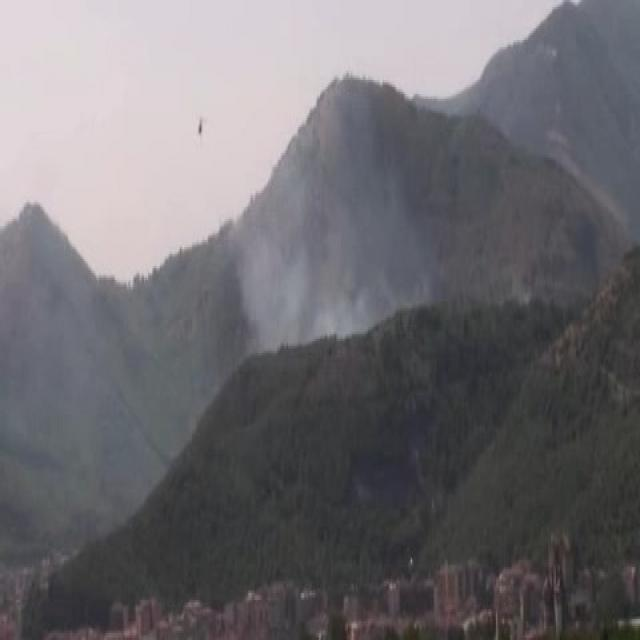smoke: (244, 148, 390, 353)
